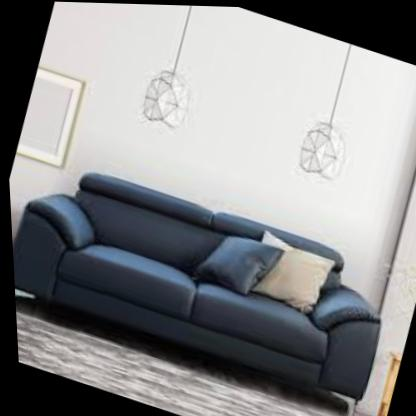Sofa: (5, 132, 414, 416)
